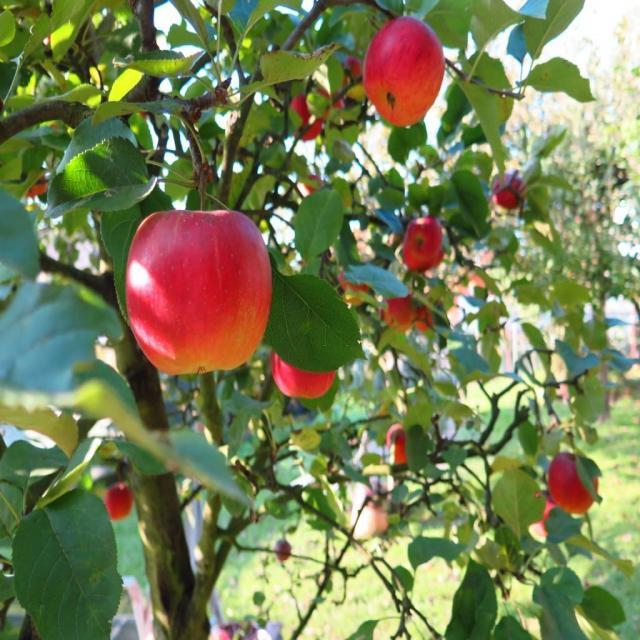Red Apple: (128, 208, 273, 373), (371, 20, 443, 114), (274, 344, 335, 407), (551, 457, 597, 514), (410, 219, 442, 264), (386, 292, 415, 327), (108, 486, 136, 522), (294, 98, 322, 133), (501, 174, 525, 203), (391, 426, 410, 454), (417, 305, 432, 328), (345, 59, 361, 79), (276, 542, 289, 559)
